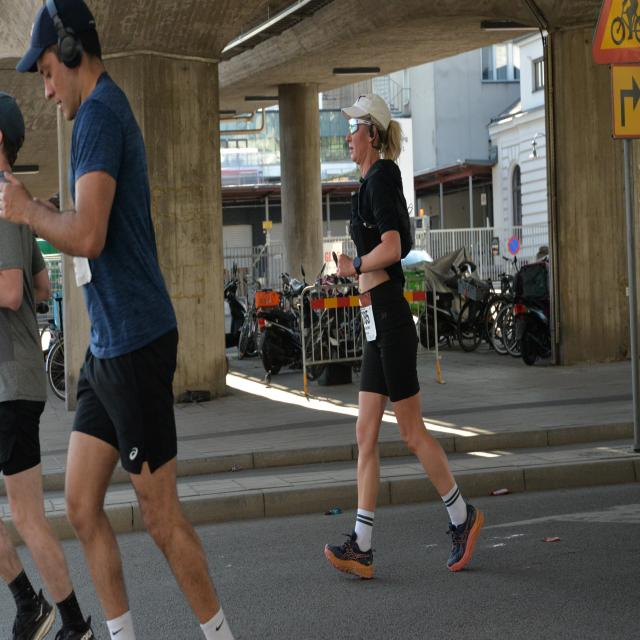runner-detect: (313, 81, 485, 587)
